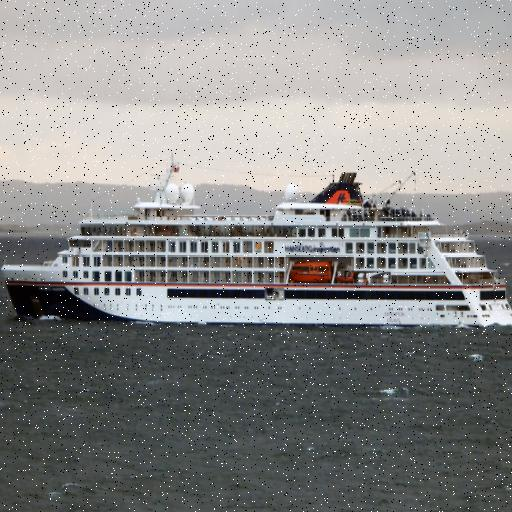cruises: (1, 163, 512, 335)
